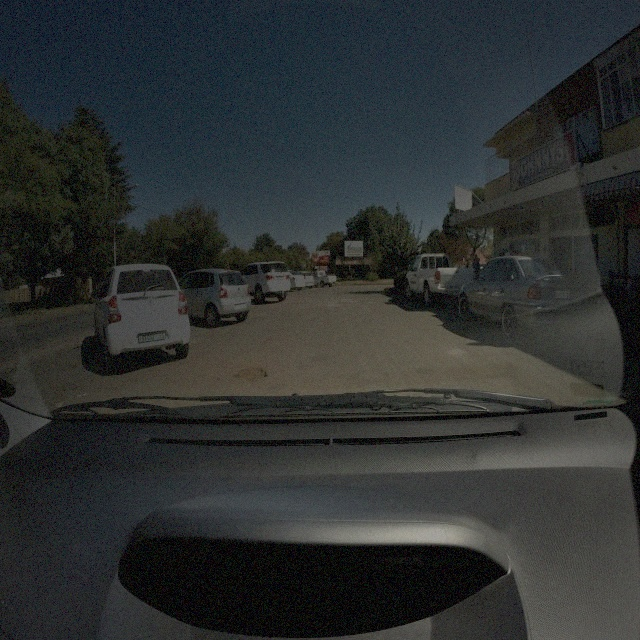pothole: (236, 366, 268, 382)
